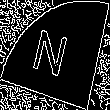N_S: (33, 24, 77, 86)
